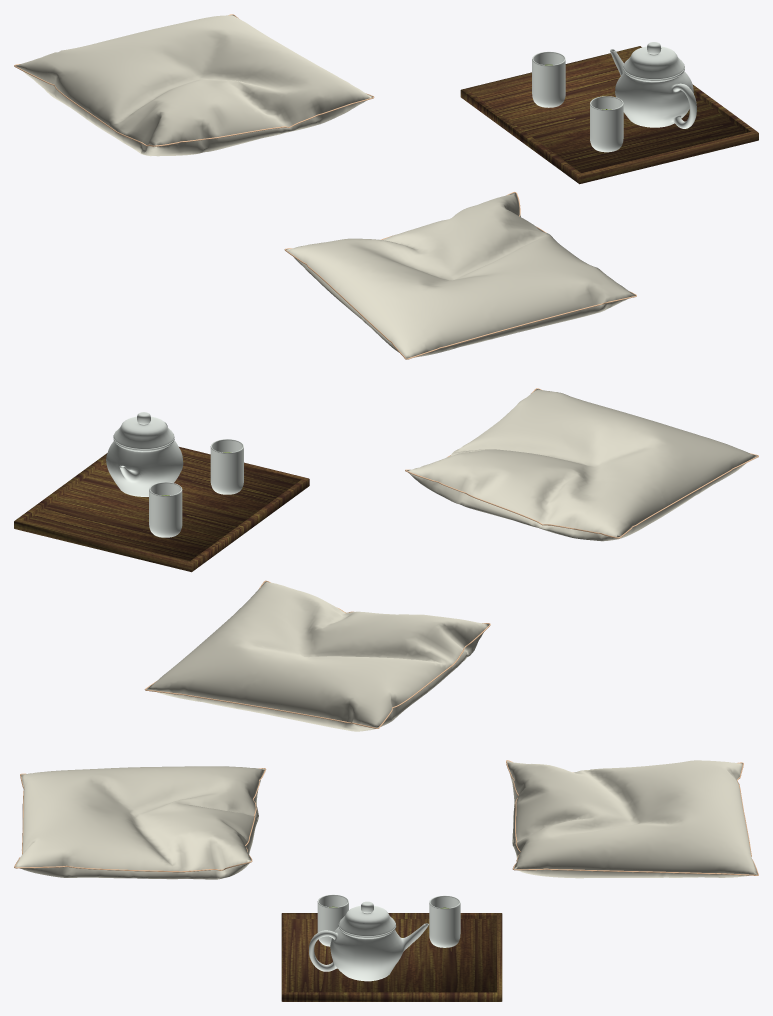
The model's file is pillowsAndTea 1.fbx.
The picture shows the model from 3 angles, top to bottom: view 1: azimuth 30°, elevation 25°; view 2: azimuth 150°, elevation 25°; view 3: azimuth 270°, elevation 25°; orthographic projection. The views are drawn at different scales.
Parts seen in each view (by area): view 1: pillow2, pillow1, teaTray.002; view 2: pillow2, pillow1, teaTray.002; view 3: pillow1, pillow2, teaTray.002.
Boxes of the visible parts, x1,y1,x2,y2 form: pillow2: (284, 192, 636, 359); pillow1: (14, 14, 374, 156); teaTray.002: (460, 42, 758, 184); pillow2: (405, 388, 758, 541); pillow1: (144, 580, 490, 731); teaTray.002: (14, 412, 309, 572); pillow1: (506, 760, 758, 878); pillow2: (14, 766, 266, 879); teaTray.002: (281, 894, 502, 1001).
Size of the model in its own units: 11864 by 1767 by 16555.
